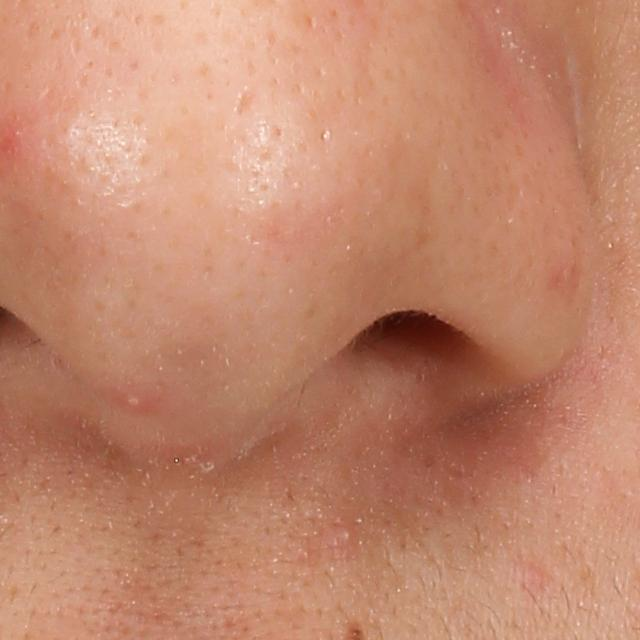atrophic_scar: (226, 84, 260, 124)
